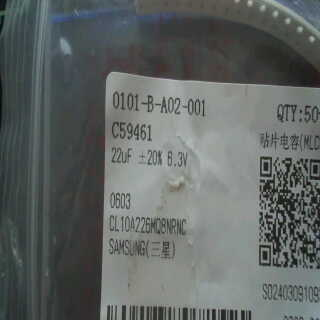22uF: (107, 141, 133, 168)
